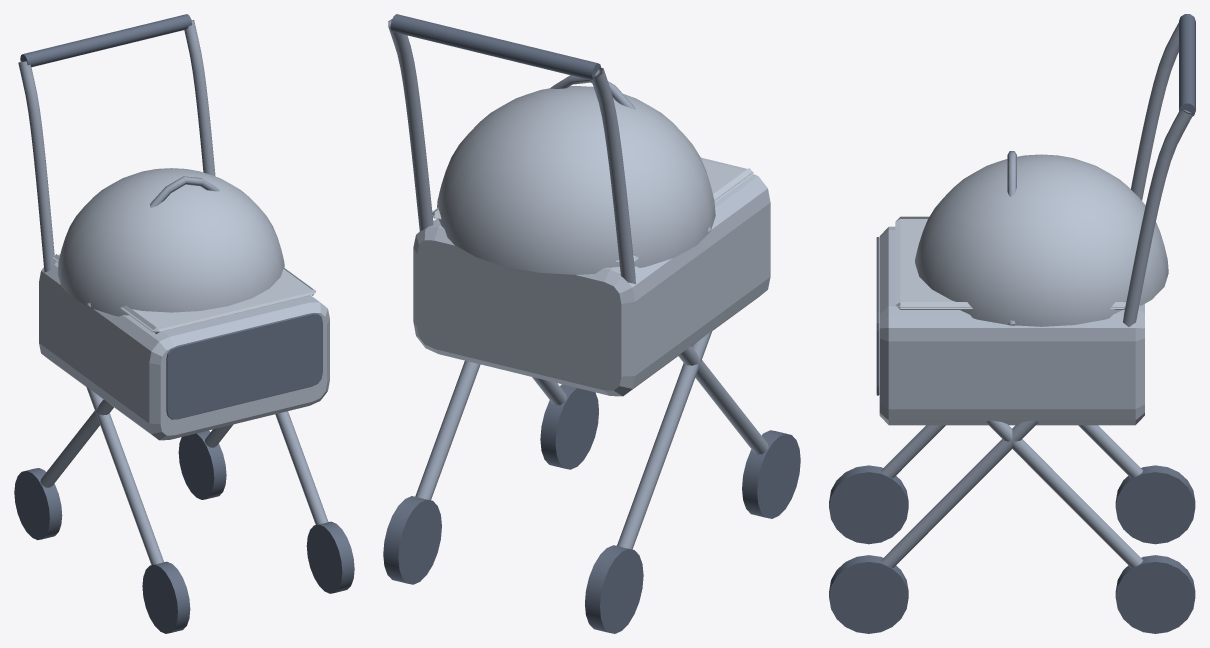
The model's file is 宠物推车-lite.glb.
3 renders of one model, left to right at view 1: azimuth 30°, elevation 25°; view 2: azimuth 150°, elevation 25°; view 3: azimuth 270°, elevation 25°, orthographic. The views are drawn at different scales.
Parts seen in each view (by area): view 1: soft, dark, body, light; view 2: soft, dark, body, light; view 3: soft, dark, body, light.
Part boxes in pixels (x1=…): soft: x1=39, y1=168, x2=329, y2=440; dark: x1=14, y1=14, x2=354, y2=633; body: x1=18, y1=20, x2=328, y2=564; light: x1=53, y1=254, x2=315, y2=333; soft: x1=413, y1=86, x2=770, y2=396; dark: x1=383, y1=14, x2=800, y2=633; body: x1=388, y1=19, x2=768, y2=549; light: x1=432, y1=157, x2=753, y2=262; soft: x1=879, y1=154, x2=1168, y2=425; dark: x1=829, y1=14, x2=1195, y2=633; body: x1=881, y1=22, x2=1193, y2=567; light: x1=895, y1=216, x2=1125, y2=309.
Bounding box in the file's own units: 0.48 × 1.1 × 0.691.
